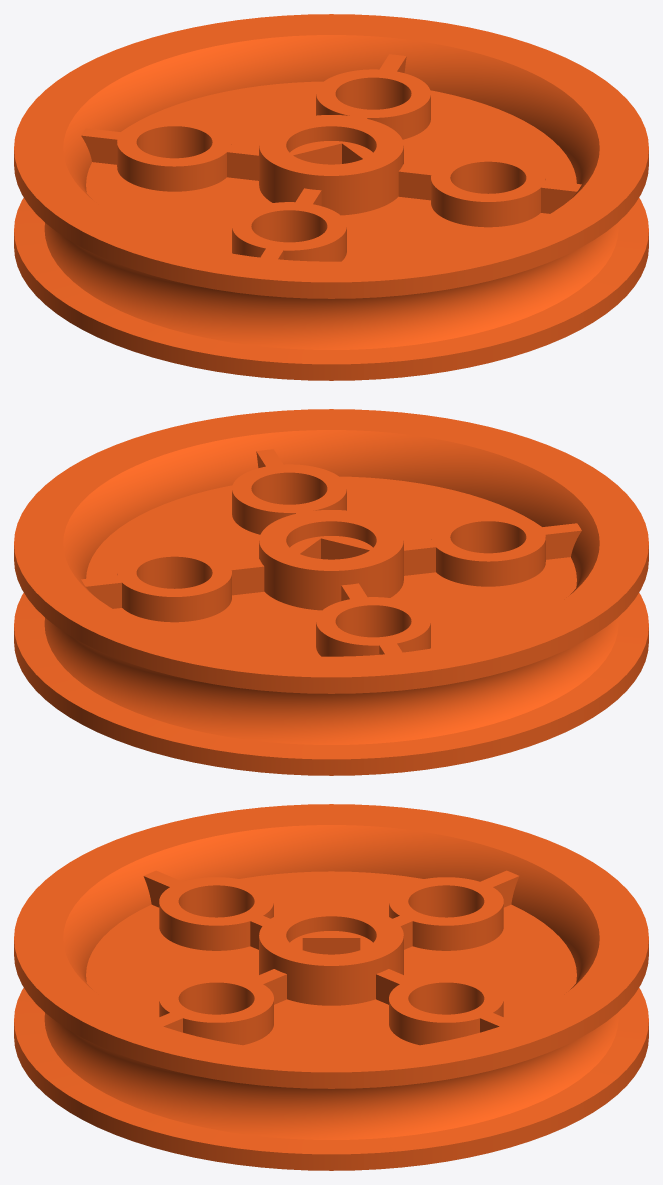
3 renders of one model, top to bottom at view 1: azimuth 30°, elevation 25°; view 2: azimuth 150°, elevation 25°; view 3: azimuth 270°, elevation 25°, orthographic.
Visible parts, largest first — view 1: 228-2500-165; view 2: 228-2500-165; view 3: 228-2500-165.
Part boxes in pixels (bbox=[...]): 228-2500-165: bbox=[14, 14, 648, 380]; 228-2500-165: bbox=[14, 409, 648, 775]; 228-2500-165: bbox=[14, 804, 648, 1170].
Bounding box in the file's own units: 0.0351 × 0.00635 × 0.0351.
